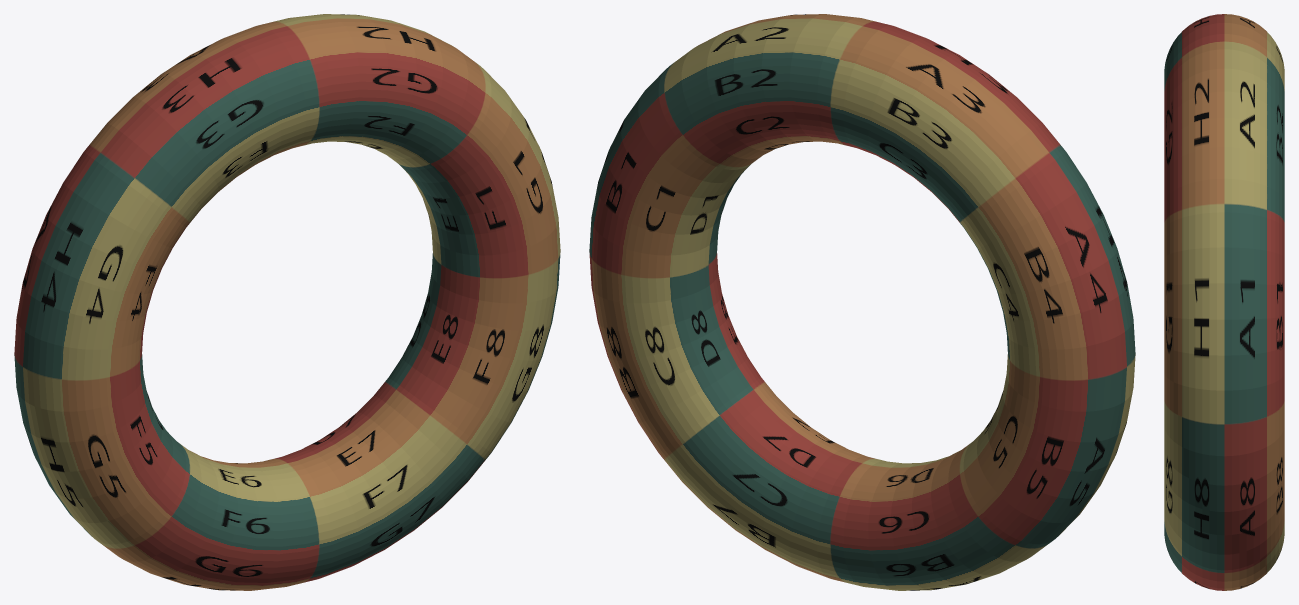
Rendered from texture_torus_R13_r11.glb.
3 views of the same model, side by side, from view 1: azimuth 30°, elevation 25°; view 2: azimuth 150°, elevation 25°; view 3: azimuth 270°, elevation 25° (orthographic). The views are drawn at different scales.
Visible parts, largest first — view 1: world; view 2: world; view 3: world.
Part boxes in pixels (x1,y1,x2,y2): world: [14, 14, 560, 590]; world: [589, 14, 1135, 590]; world: [1164, 14, 1284, 590].
Size of the model in its own units: 23.6 by 23.55 by 4.92.
Materials: 1 (1 with a texture image).
